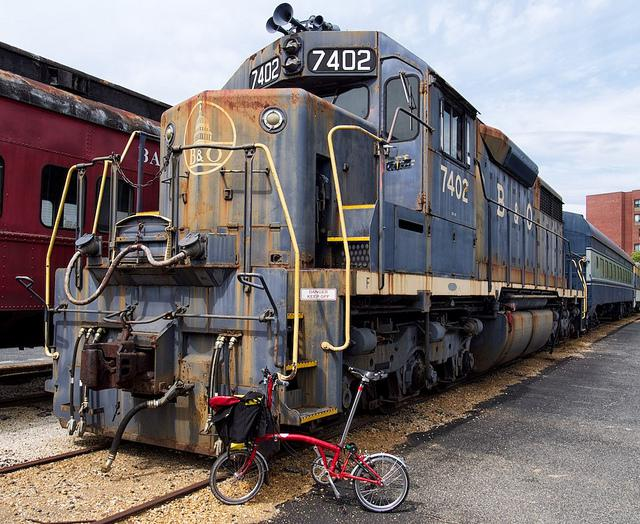Train: (44, 11, 639, 464), (3, 67, 166, 349)
